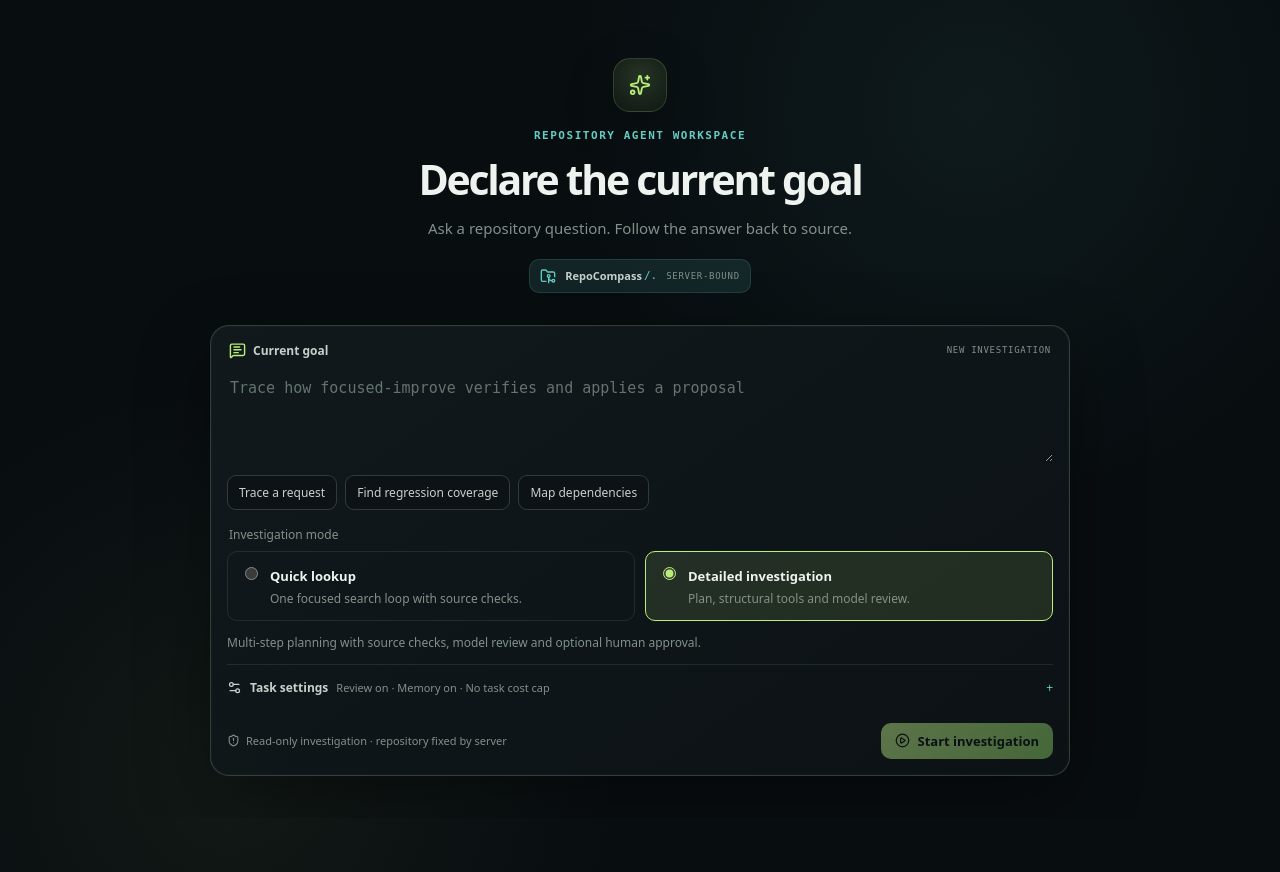
ConversationWorkspace lifecycle commands › makes quick review limits explicit and restores detailed settings
Expected: the radio button labelled "Detailed investigation" is checked, [663,567,676,580]
Click the radio button labelled "Quick lookup One focused search loop with source checks." at (252, 573), box [245,567,258,580]
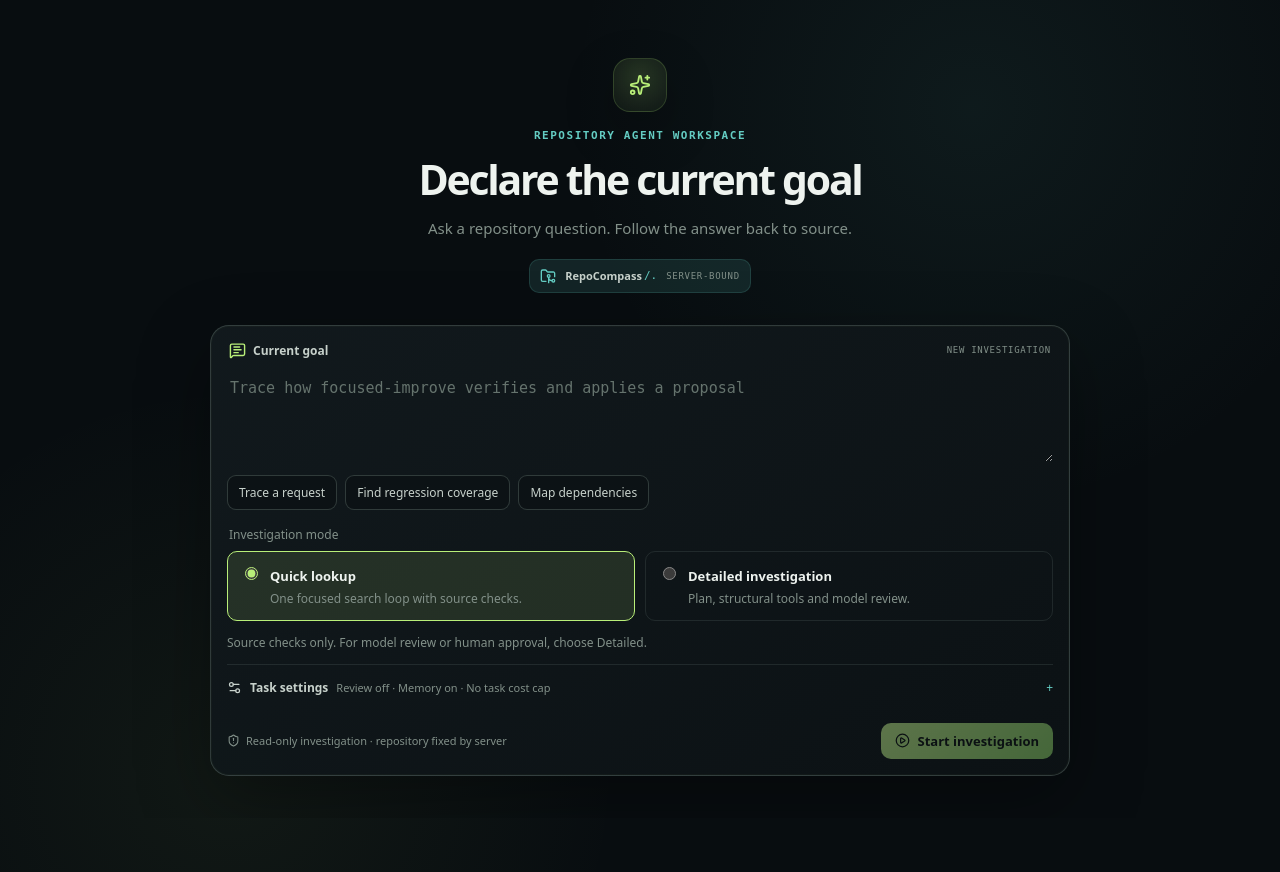
Now the text "For model review or human approval, choose Detailed" is shown, box [227,634,647,651]
Click the text "Task settings" at (289, 687), box [250,679,328,696]
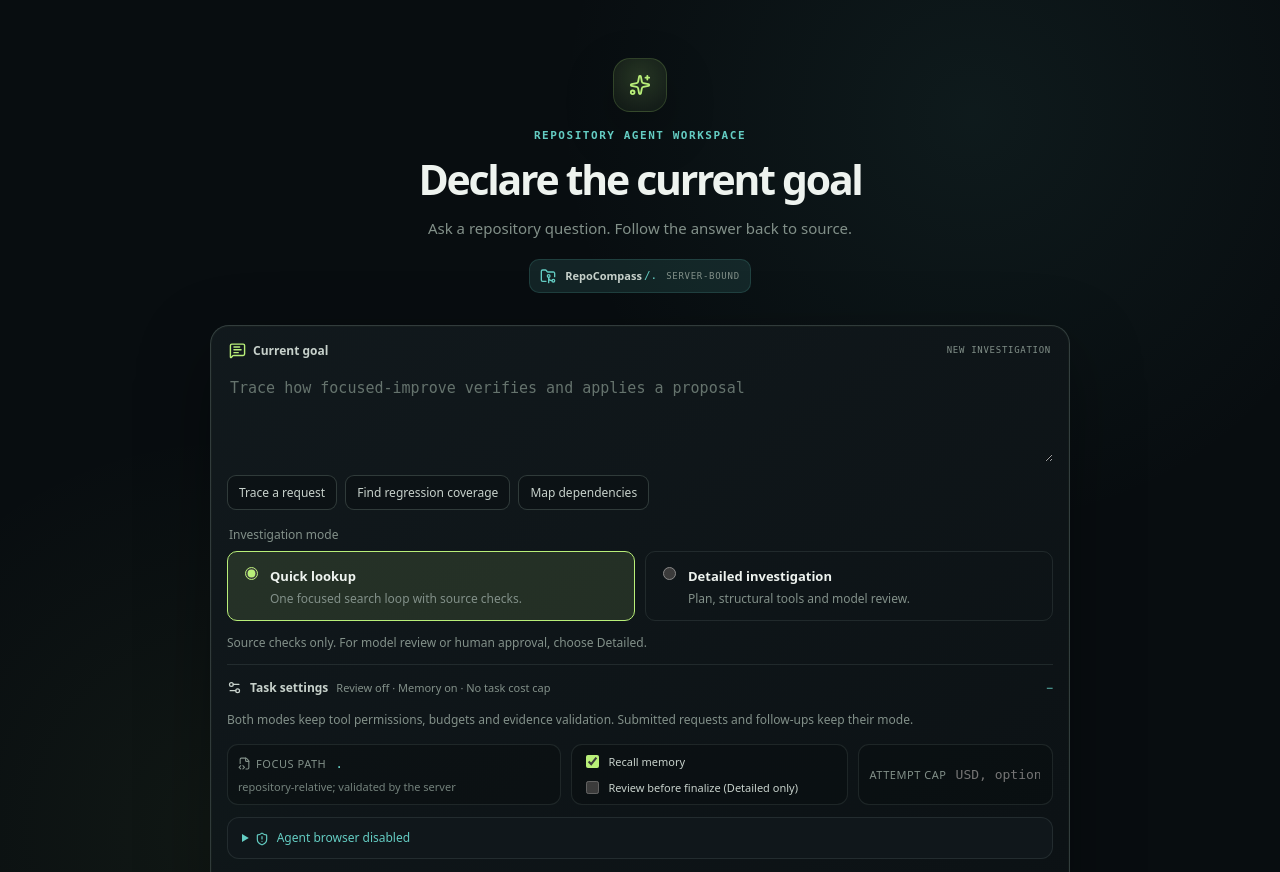
Now the checkbox labelled "Review before finalize (Detailed only)" is disabled, box [586,781,598,794]
Now the checkbox labelled "Review before finalize (Detailed only)" is not checked, box [586,781,598,794]
Now the checkbox labelled "Recall memory" is checked, box [586,755,598,768]
Click the radio button labelled "Detailed investigation" at (670, 573), box [663,567,676,580]
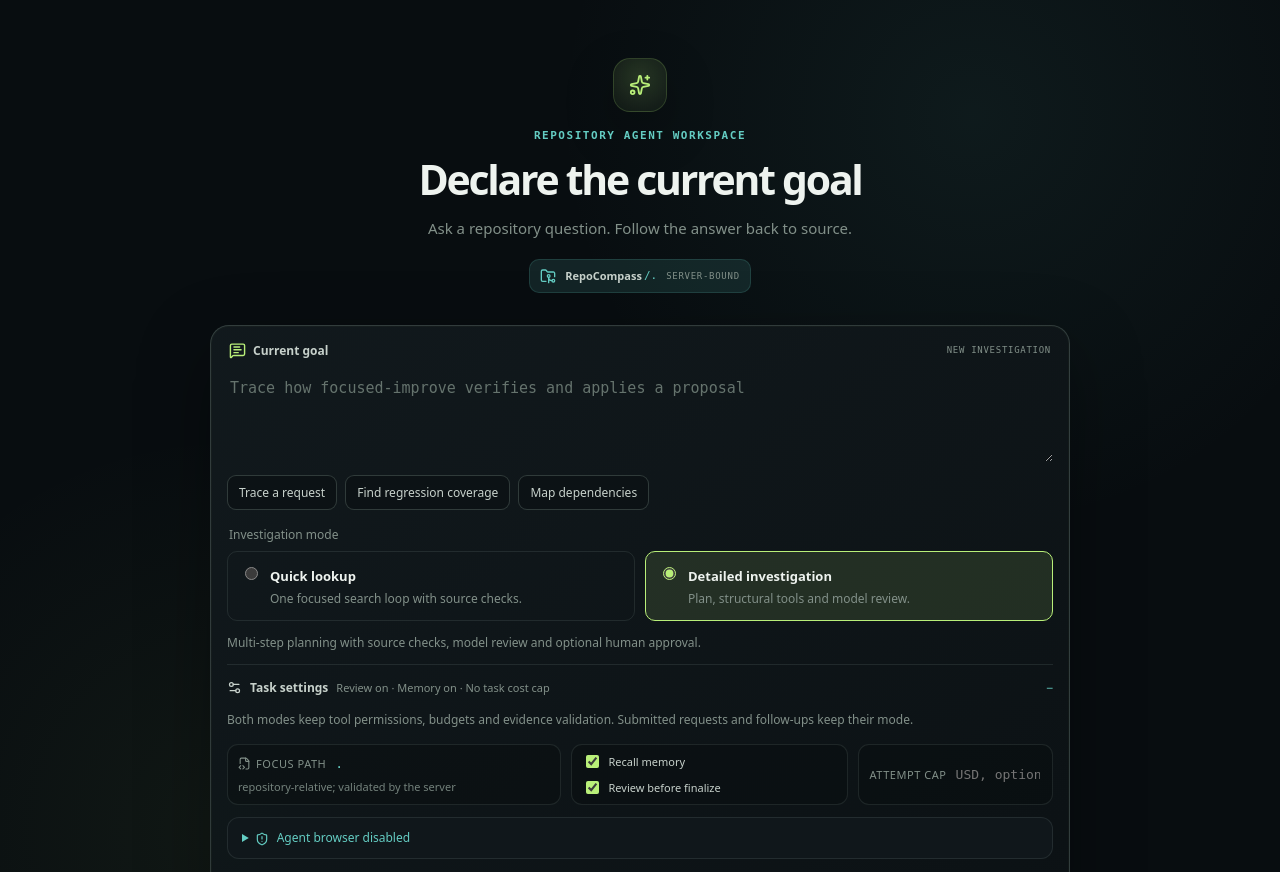
Now the checkbox labelled "Review before finalize" is checked, box [586,781,598,794]
Now the checkbox labelled "Review before finalize" is enabled, box [586,781,598,794]
